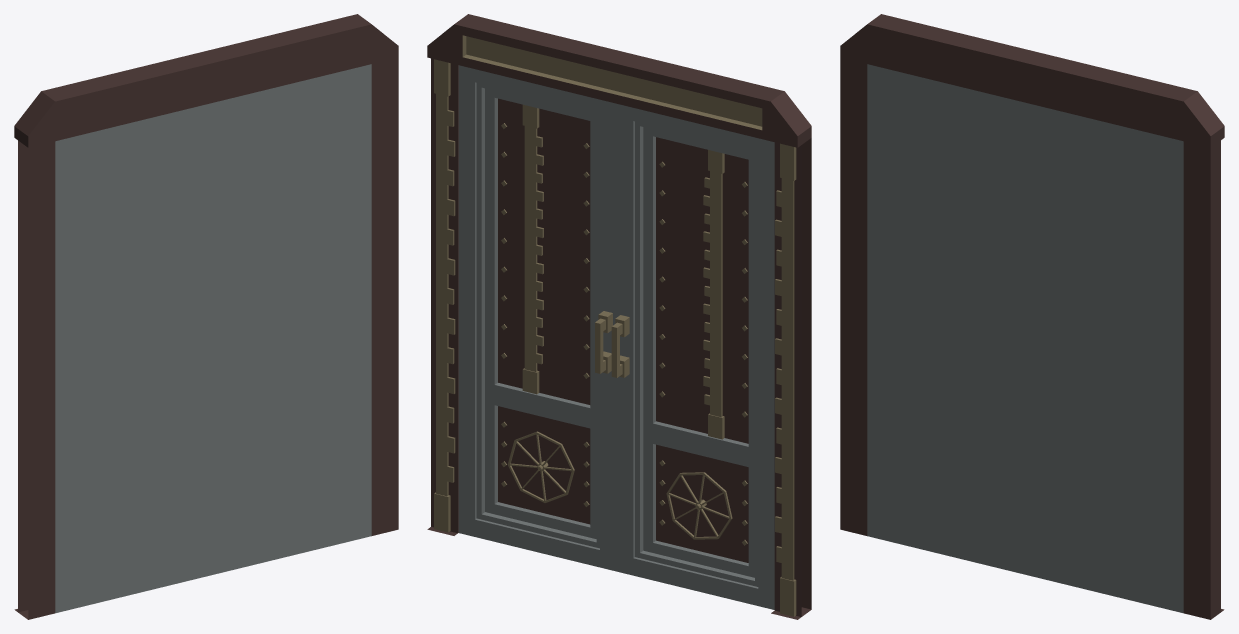
Rendered from maindoor.fbx.
3 views of the same model, side by side, from view 1: azimuth 30°, elevation 25°; view 2: azimuth 150°, elevation 25°; view 3: azimuth 330°, elevation 25° (orthographic).
Visible parts, largest first — view 1: Cube.006, Cube.001, Cube.003; view 2: Cube.006, Cube.001, Cube.003, Cube.004, Cube, Cube.005, Cylinder.001, Cylinder, Cube.007, Cube.002; view 3: Cube.001, Cube.006, Cube.003.
Boxes of the visible parts, x1,y1,x2,y2 form: Cube.006: (55, 102, 213, 613); Cube.001: (213, 64, 371, 574); Cube.003: (14, 14, 398, 619); Cube.006: (616, 104, 774, 609); Cube.001: (458, 65, 616, 571); Cube.003: (427, 14, 811, 619); Cube.004: (434, 59, 796, 616); Cube: (522, 104, 543, 394); Cube.005: (703, 150, 724, 439); Cylinder.001: (666, 472, 732, 539); Cylinder: (507, 431, 574, 502); Cube.007: (611, 315, 629, 377); Cube.002: (595, 311, 612, 373); Cube.001: (1025, 102, 1183, 613); Cube.006: (867, 64, 1025, 574); Cube.003: (840, 14, 1224, 619).
Bounding box in the file's own units: 443 × 585 × 42.5.
